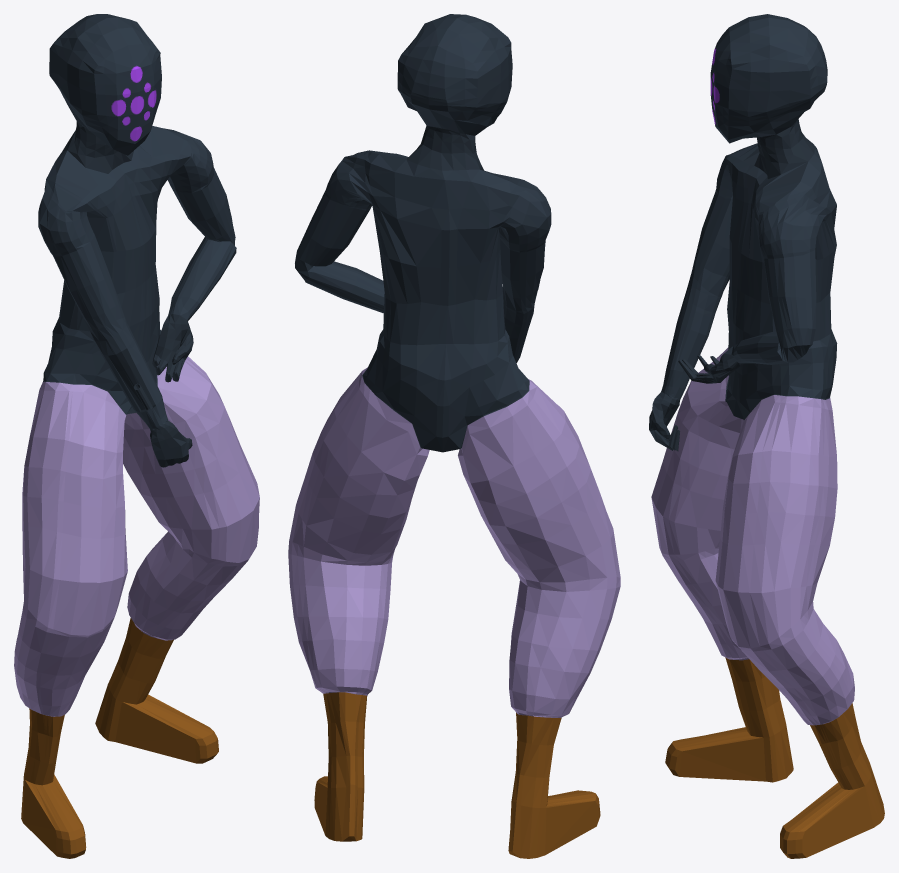
File: Oracle_WR_000017.obj
3 views of the same model, side by side, from view 1: azimuth 30°, elevation 25°; view 2: azimuth 150°, elevation 25°; view 3: azimuth 270°, elevation 25° (orthographic). The views are drawn at different scales.
Parts seen in each view (by area): view 1: Cube; view 2: Cube; view 3: Cube.
Boxes of the visible parts, x1=… form: Cube: x1=14, y1=14, x2=259, y2=858; Cube: x1=288, y1=14, x2=620, y2=858; Cube: x1=649, y1=14, x2=884, y2=858.
Size of the model in its own units: 1.37 by 3.79 by 1.02.
